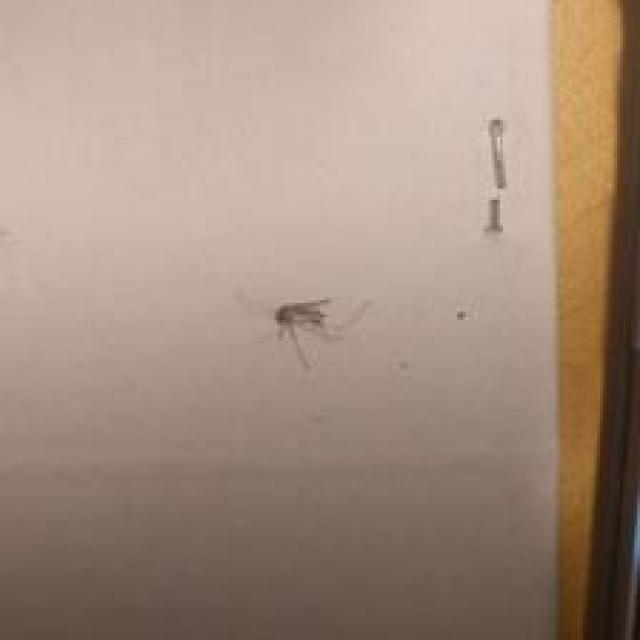Culex: (240, 292, 371, 372)
